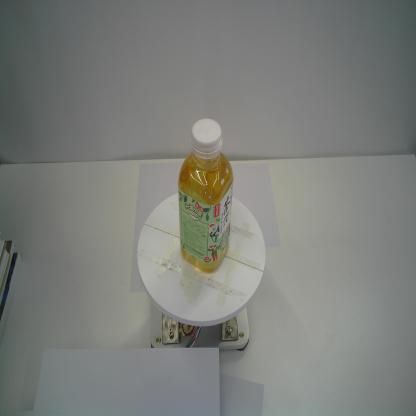Drink: (174, 115, 234, 276)
